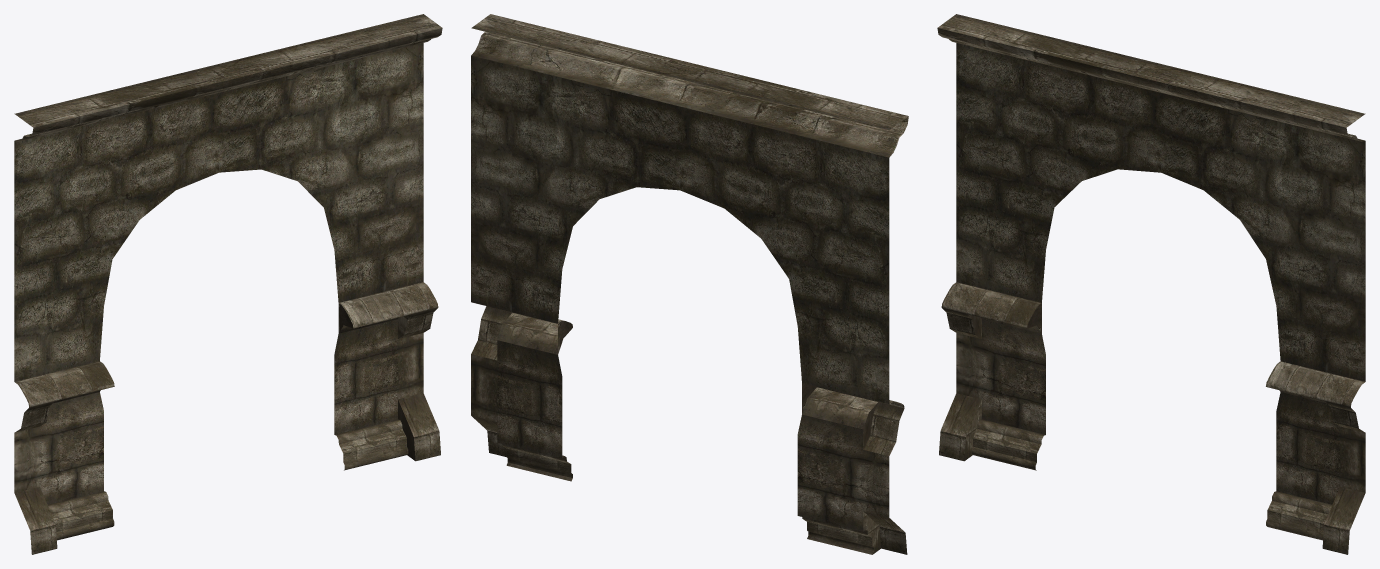
Rendered from door_way_arched_worn_amfp.dae.
The picture shows the model from 3 angles, left to right: view 1: azimuth 30°, elevation 25°; view 2: azimuth 150°, elevation 25°; view 3: azimuth 330°, elevation 25°; orthographic projection. The views are drawn at different scales.
Parts seen in each view (by area): view 1: polySurface125; view 2: polySurface125; view 3: polySurface125.
Boxes of the visible parts, box(x1,y1,x2,y2) form: polySurface125: box(14, 14, 442, 554); polySurface125: box(471, 14, 908, 554); polySurface125: box(937, 14, 1365, 554).
Bounding box in the file's own units: 4 × 4 × 0.3219.
